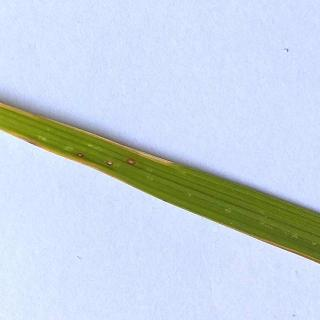Blast: (74, 147, 94, 166), (126, 152, 142, 168), (104, 158, 118, 170)
